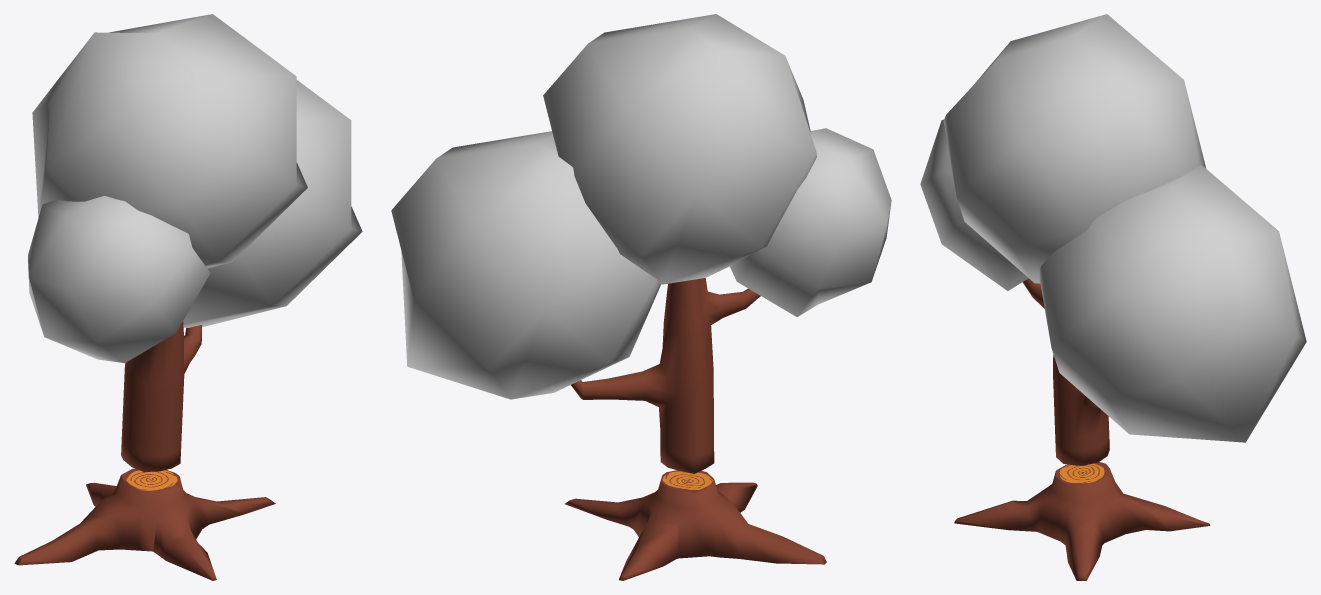
The model's file is fulltree2.fbx.
The picture shows the model from 3 angles, left to right: view 1: azimuth 30°, elevation 25°; view 2: azimuth 150°, elevation 25°; view 3: azimuth 270°, elevation 25°; orthographic projection. The views are drawn at different scales.
Visible parts, largest first — view 1: Cube.002, Cube.003, Cube.001; view 2: Cube.002, Cube.001, Cube.003; view 3: Cube.002, Cube.003, Cube.001.
Part boxes in pixels (box(x1,y1,x2,y2)): Cube.002: box(28, 14, 362, 363); Cube.003: box(14, 468, 275, 580); Cube.001: box(121, 321, 201, 471); Cube.002: box(391, 14, 891, 399); Cube.001: box(571, 278, 760, 473); Cube.003: box(565, 470, 826, 580); Cube.002: box(920, 14, 1306, 442); Cube.003: box(954, 462, 1210, 580); Cube.001: box(1022, 278, 1109, 465).
Size of the model in its own units: 2013 by 2427 by 1738.
